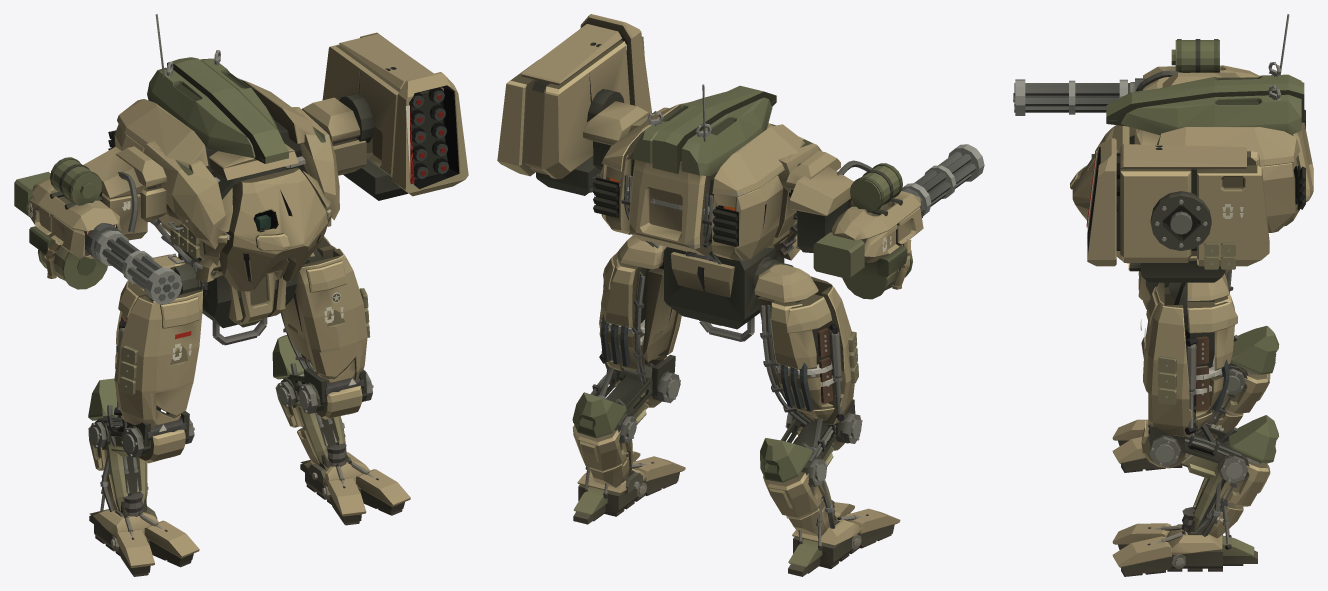
File: rampart.glb
The picture shows the model from 3 angles, left to right: view 1: azimuth 30°, elevation 25°; view 2: azimuth 150°, elevation 25°; view 3: azimuth 270°, elevation 25°; orthographic projection.
Parts seen in each view (by area): view 1: Part_Torso, Part_Pod_L, Part_Pod_R, Part_Thigh_R, Part_Thigh_L, Part_Foot_R, Part_Foot_L, Part_Pelvis, Part_Cannon_R, Part_Cannon_L, Part_PodSpin_R, Part_Shin_R (+1 smaller); view 2: Part_Torso, Part_Pod_L, Part_Pod_R, Part_Thigh_R, Part_Thigh_L, Part_Pelvis, Part_Cannon_R, Part_Foot_R, Part_Cannon_L, Part_Foot_L, Part_PodSpin_R, Part_Shin_L (+1 smaller); view 3: Part_Pod_L, Part_Torso, Part_Thigh_L, Part_Foot_L, Part_Cannon_L, Part_Cannon_R, Part_PodSpin_R, Part_Pod_R, Part_Shin_L, Part_Foot_R, Part_Pelvis.
Part boxes in pixels (bbox=[...]): Part_Torso: bbox=[108, 14, 339, 291]; Part_Pod_L: bbox=[301, 32, 468, 200]; Part_Pod_R: bbox=[14, 146, 166, 289]; Part_Thigh_R: bbox=[114, 254, 207, 446]; Part_Thigh_L: bbox=[280, 236, 370, 405]; Part_Foot_R: bbox=[89, 454, 199, 576]; Part_Foot_L: bbox=[300, 419, 410, 525]; Part_Pelvis: bbox=[178, 242, 314, 345]; Part_Cannon_R: bbox=[88, 378, 148, 515]; Part_Cannon_L: bbox=[272, 335, 348, 467]; Part_PodSpin_R: bbox=[85, 223, 182, 304]; Part_Shin_R: bbox=[97, 415, 194, 463]; Part_Torso: bbox=[593, 84, 821, 260]; Part_Pod_L: bbox=[497, 14, 651, 195]; Part_Pod_R: bbox=[786, 150, 923, 299]; Part_Thigh_R: bbox=[754, 259, 858, 454]; Part_Thigh_L: bbox=[597, 235, 681, 398]; Part_Pelvis: bbox=[664, 236, 800, 341]; Part_Cannon_R: bbox=[760, 438, 836, 536]; Part_Foot_R: bbox=[788, 482, 900, 576]; Part_Cannon_L: bbox=[572, 392, 637, 487]; Part_Foot_L: bbox=[573, 451, 685, 524]; Part_PodSpin_R: bbox=[902, 144, 984, 217]; Part_Shin_L: bbox=[590, 363, 680, 430]; Part_Pod_L: bbox=[1086, 138, 1269, 282]; Part_Torso: bbox=[1070, 14, 1313, 263]; Part_Thigh_L: bbox=[1140, 273, 1237, 453]; Part_Foot_L: bbox=[1112, 482, 1257, 576]; Part_Cannon_L: bbox=[1187, 415, 1278, 538]; Part_Cannon_R: bbox=[1194, 326, 1279, 438]; Part_PodSpin_R: bbox=[1013, 78, 1145, 115]; Part_Pod_R: bbox=[1135, 39, 1260, 91]; Part_Shin_L: bbox=[1141, 422, 1241, 479]; Part_Foot_R: bbox=[1112, 419, 1215, 472]; Part_Pelvis: bbox=[1138, 269, 1228, 302].
Size of the model in its own units: 4.73 by 5.75 by 3.25.
